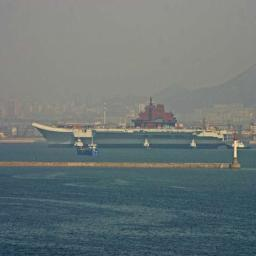Portanaves: (31, 94, 226, 153)
